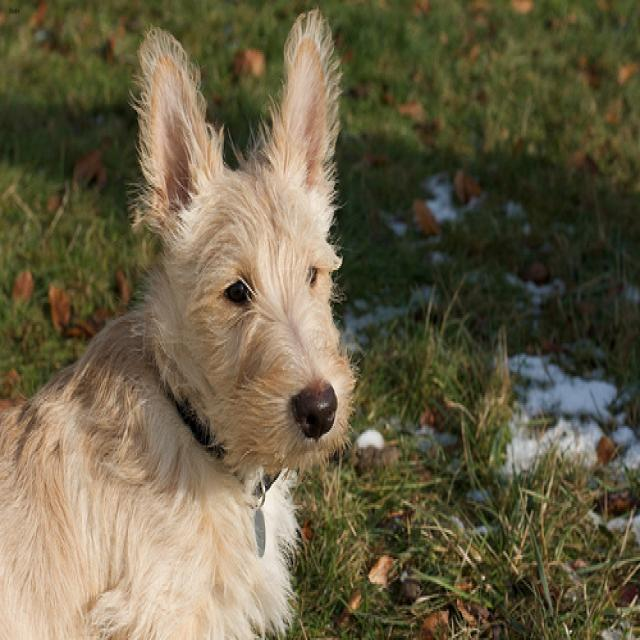dog-scottish_terrier: (1, 4, 374, 636)
